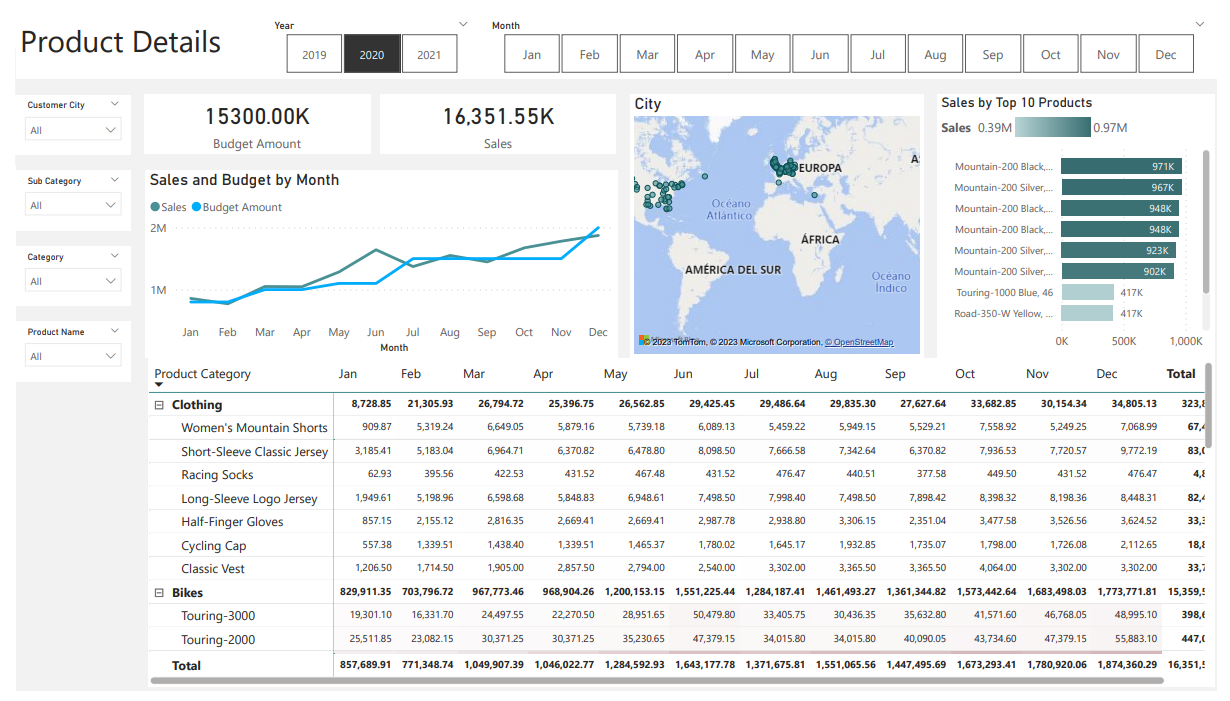

Layout of this report page (visuals, bound fields, positions):
{"tool":"powerbi","page":{"name":"Product Details","canvas":[1280,720],"ordinal":2},"visuals":[{"type":"textbox","box":[0,0,1280,68.8],"z":0},{"type":"slicer","fields":{"Values":["DIM_Customer.Customer City"]},"box":[0,85.6,123.3,63.3],"z":1000},{"type":"slicer","fields":{"Values":["DIM_Products.Sub Category"]},"box":[0,165.6,123.3,64.4],"z":2000},{"type":"slicer","fields":{"Values":["DIM_Products.Product Category"]},"box":[0,246.7,123.3,63.3],"z":3000},{"type":"slicer","fields":{"Values":["DIM_Products.ProductName"]},"box":[0,326.7,123.3,64.4],"z":4000},{"type":"slicer","fields":{"Values":["DIM_Calendar.Year"]},"box":[263.4,0,231.2,68.8],"z":5000},{"type":"slicer","fields":{"Values":["DIM_Calendar.MonthShort"]},"box":[494.6,0,785.9,68.8],"z":6000},{"type":"card","fields":{"Values":["Key Measures.Sales"]},"box":[389.4,85,250.9,63.1],"z":8000},{"type":"card","fields":{"Values":["Key Measures.Budget Amount"]},"box":[137.1,85,241.3,63.1],"z":9000},{"type":"pivotTable","fields":{"Values":["Key Measures.Sales"],"Columns":["DIM_Calendar.MonthShort"],"Rows":["DIM_Products.Product Category","DIM_Products.Product Model Name"]},"box":[141.2,366.1,1136.6,350],"z":10000},{"type":"lineChart","title":"Sales and Budget by Month","fields":{"Y":["Key Measures.Sales","Key Measures.Budget Amount"],"Category":["DIM_Calendar.MonthShort"]},"box":[138.5,165.9,503.2,200.2],"z":11000},{"type":"barChart","title":"Sales by Top 10 Products","fields":{"Y":["Key Measures.Sales"],"Category":["DIM_Products.ProductName"]},"box":[981.7,85,296.1,281.1],"z":13000},{"type":"map","fields":{"Category":["DIM_Customer.Customer City"]},"box":[655.4,85,312.6,281.1],"z":14000}]}

Visuals, with their boxes in screenshot pixels (x1, y1, x2, y2), scaled from the page's 1280x720 canvas onto the 1230x701 screenshot:
textbox: l=0, t=0, r=1229, b=67
slicer - DIM_Customer.Customer City: l=0, t=83, r=118, b=145
slicer - DIM_Products.Sub Category: l=0, t=161, r=118, b=224
slicer - DIM_Products.Product Category: l=0, t=240, r=118, b=302
slicer - DIM_Products.ProductName: l=0, t=318, r=118, b=381
slicer - DIM_Calendar.Year: l=253, t=0, r=475, b=67
slicer - DIM_Calendar.MonthShort: l=475, t=0, r=1229, b=67
card - Key Measures.Sales: l=374, t=83, r=615, b=144
card - Key Measures.Budget Amount: l=132, t=83, r=364, b=144
pivotTable - Key Measures.Sales x DIM_Calendar.MonthShort: l=136, t=356, r=1228, b=697
"Sales and Budget by Month" lineChart: l=133, t=162, r=617, b=356
"Sales by Top 10 Products" barChart: l=943, t=83, r=1228, b=356
map - DIM_Customer.Customer City: l=630, t=83, r=930, b=356
